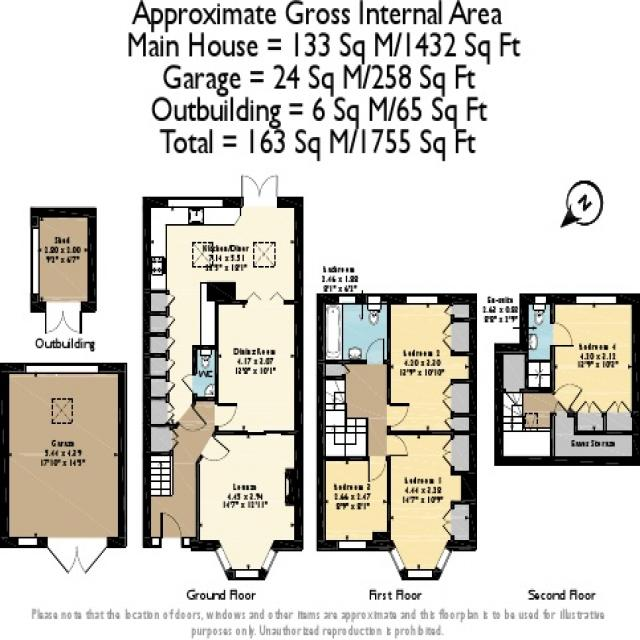DOOR: (551, 382, 584, 413), (198, 433, 231, 463), (176, 403, 209, 433), (159, 511, 183, 548), (386, 402, 411, 429), (214, 402, 239, 428), (550, 321, 574, 348), (367, 456, 387, 485), (365, 337, 385, 364), (386, 434, 409, 457), (180, 372, 198, 395)
DOUBLE DOOR: (240, 173, 279, 198)
ROOM: (141, 173, 304, 434), (194, 430, 304, 582), (386, 430, 478, 582), (214, 290, 304, 436), (386, 293, 477, 435), (550, 293, 640, 436), (316, 456, 392, 552)
WINDOW: (167, 196, 224, 209), (387, 544, 408, 575), (213, 544, 233, 575), (435, 544, 454, 574), (260, 546, 279, 575), (575, 293, 617, 306), (406, 293, 438, 306), (234, 567, 260, 581), (338, 540, 368, 552), (407, 569, 433, 579), (338, 293, 356, 305), (366, 293, 382, 305), (535, 296, 547, 305)
